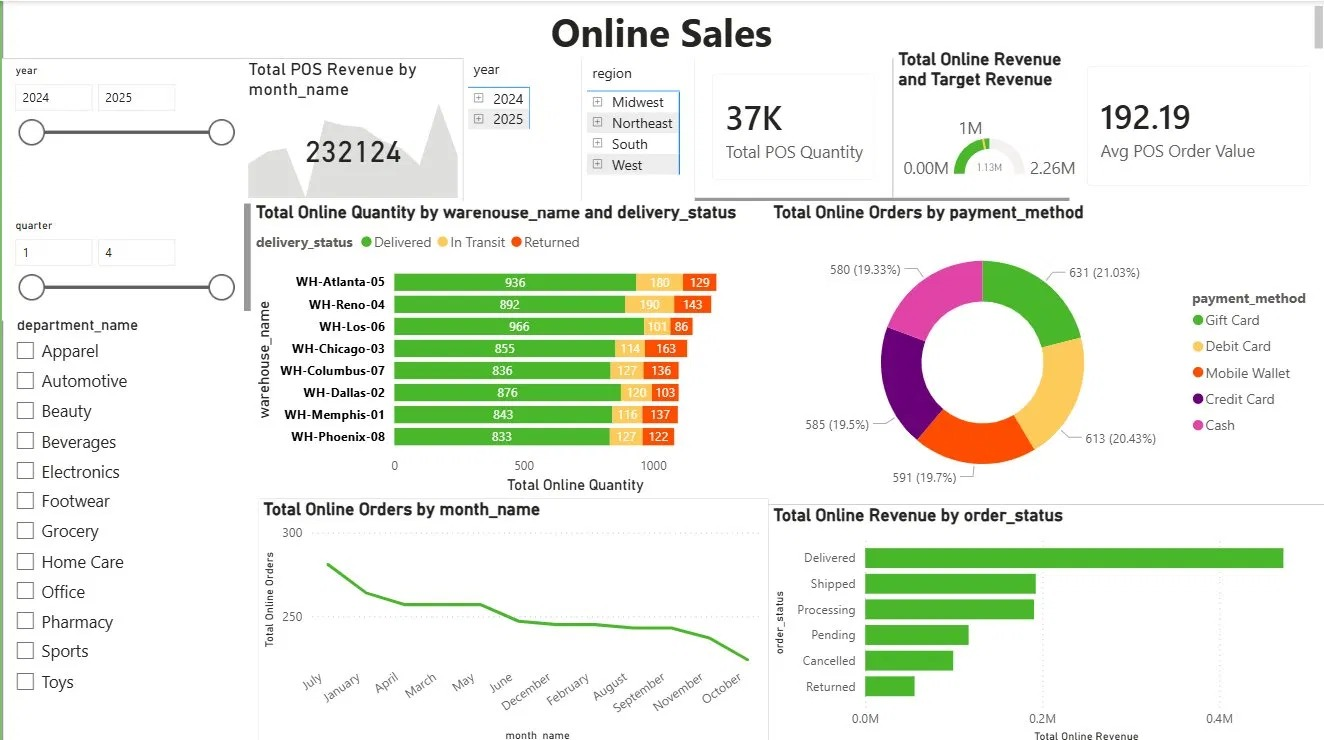

What the dashboard file says about the page in this screenshot:
{"tool":"powerbi","page":{"name":"Online Sales","canvas":[1280,720],"ordinal":2},"visuals":[{"type":"slicer","fields":{"Values":["gold dim_product.department_name"]},"box":[1.2,299.2,246.1,421],"z":0},{"type":"slicer","fields":{"Values":["gold dim_date.year"]},"box":[0,55.5,232.8,149.6],"z":1000},{"type":"slicer","fields":{"Values":["gold dim_date.quarter"]},"box":[0,205.1,232.8,102.5],"z":2000},{"type":"textbox","box":[1.2,0,1278.8,55.5],"z":3000},{"type":"cardVisual","fields":{"Data":["Measures (2).Total POS Quantity"]},"box":[668.5,52.7,191.2,137.1],"z":4000},{"type":"cardVisual","fields":{"Data":["Measures (2).Avg POS Order Value"]},"box":[1030,45.7,250,150],"z":5000},{"type":"kpi","fields":{"Indicator":["Measures (2).Total POS Revenue"],"TrendLine":["gold dim_date.month_name"]},"box":[232.8,55.5,212.3,139.9],"z":6000},{"type":"barChart","fields":{"Category":["gold dim_warehouse.warehouse_name"],"Y":["Measures (2).Total Online Quantity"],"Series":["gold fact_online_sales.delivery_status"]},"box":[240,192.5,506.3,287.4],"z":7000},{"type":"donutChart","fields":{"Category":["gold dim_payment_method.payment_method"],"Y":["Measures (2).Total Online Orders"]},"box":[740,192.9,540,292.9],"z":8000},{"type":"lineChart","fields":{"Category":["gold dim_date.month_name"],"Y":["Measures (2).Total Online Orders"]},"box":[247.3,480.2,492.2,240.1],"z":9000},{"type":"clusteredBarChart","fields":{"Category":["gold fact_online_sales.order_status"],"Y":["Measures (2).Total Online Revenue"]},"box":[740,485.7,540,234.3],"z":10000},{"type":"gauge","fields":{"TargetValue":["Measures (2).Target Revenue"],"Y":["Measures (2).Total Online Revenue"]},"box":[859.7,46.1,185.9,143.7],"z":11000},{"type":"pivotTable","fields":{"Rows":["gold dim_date.year Hierarchy.year","gold dim_date.year Hierarchy.quarter","gold dim_date.year Hierarchy.month_name"]},"box":[445.2,49.5,114.6,152],"z":12000},{"type":"pivotTable","fields":{"Rows":["gold dim_store.region Hierarchy.region","gold dim_store.region Hierarchy.city","gold dim_store.region Hierarchy.store_name"]},"box":[559.8,53.1,108.6,142.4],"z":13000}]}

Visuals, with their boxes in screenshot pixels (x1, y1, x2, y2), scaled from the page's 1280x720 canvas onto the 1324x740 screenshot:
slicer - gold dim_product.department_name: [1, 308, 256, 739]
slicer - gold dim_date.year: [0, 57, 241, 211]
slicer - gold dim_date.quarter: [0, 211, 241, 316]
textbox: [1, 0, 1323, 57]
cardVisual - Measures (2).Total POS Quantity: [691, 54, 889, 195]
cardVisual - Measures (2).Avg POS Order Value: [1065, 47, 1323, 201]
kpi - Measures (2).Total POS Revenue x gold dim_date.month_name: [241, 57, 460, 201]
barChart - gold dim_warehouse.warehouse_name x Measures (2).Total Online Quantity: [248, 198, 772, 493]
donutChart - gold dim_payment_method.payment_method x Measures (2).Total Online Orders: [765, 198, 1323, 499]
lineChart - gold dim_date.month_name x Measures (2).Total Online Orders: [256, 494, 765, 739]
clusteredBarChart - gold fact_online_sales.order_status x Measures (2).Total Online Revenue: [765, 499, 1323, 739]
gauge - Measures (2).Target Revenue x Measures (2).Total Online Revenue: [889, 47, 1082, 195]
pivotTable - gold dim_date.year Hierarchy.year x gold dim_date.year Hierarchy.quarter: [461, 51, 579, 207]
pivotTable - gold dim_store.region Hierarchy.region x gold dim_store.region Hierarchy.city: [579, 55, 691, 201]
